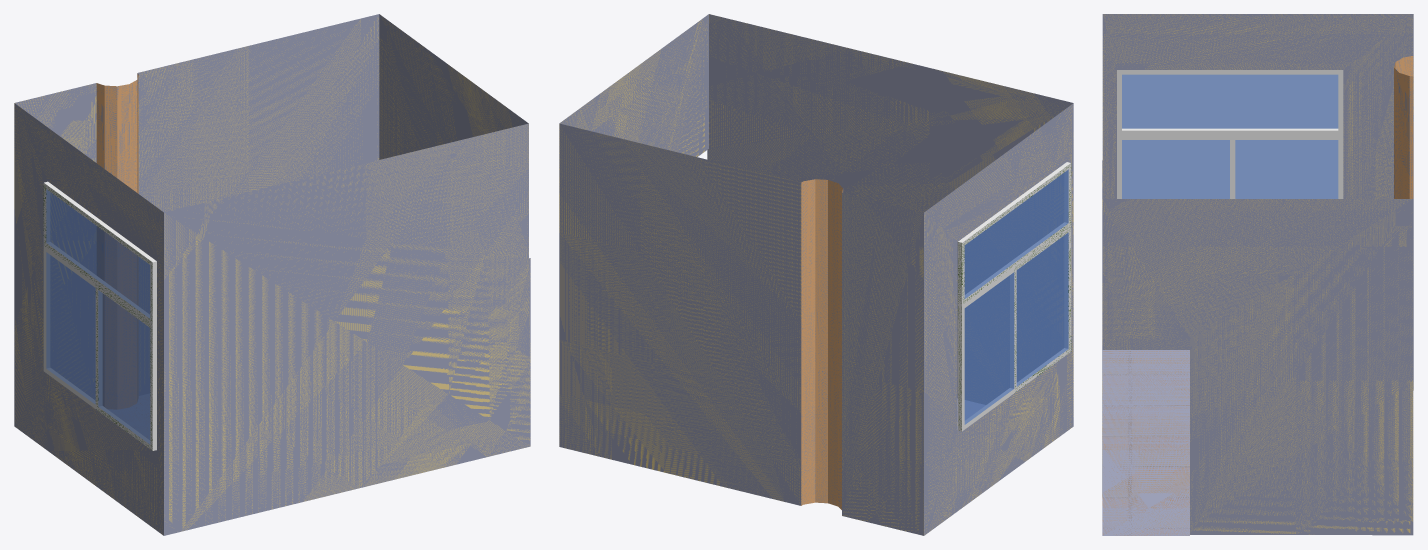
The model's file is DES036.obj.
3 views of the same model, side by side, from view 1: azimuth 30°, elevation 25°; view 2: azimuth 150°, elevation 25°; view 3: azimuth 270°, elevation 25° (orthographic). The views are drawn at different scales.
Visible parts, largest first — view 1: Mesh7 DES036 Model, Mesh1 ventana1_1 DES036 Model; view 2: Mesh7 DES036 Model, Mesh1 ventana1_1 DES036 Model; view 3: Mesh7 DES036 Model, Mesh1 ventana1_1 DES036 Model.
Part boxes in pixels (bbox=[...]): Mesh7 DES036 Model: bbox=[14, 14, 530, 535]; Mesh1 ventana1_1 DES036 Model: bbox=[43, 181, 156, 450]; Mesh7 DES036 Model: bbox=[559, 14, 1073, 535]; Mesh1 ventana1_1 DES036 Model: bbox=[958, 162, 1071, 431]; Mesh7 DES036 Model: bbox=[1102, 14, 1413, 535]; Mesh1 ventana1_1 DES036 Model: bbox=[1117, 70, 1343, 198].
Bounding box in the file's own units: 4.32 × 3.6 × 3.02.
Materials: 7 (1 with a texture image).
